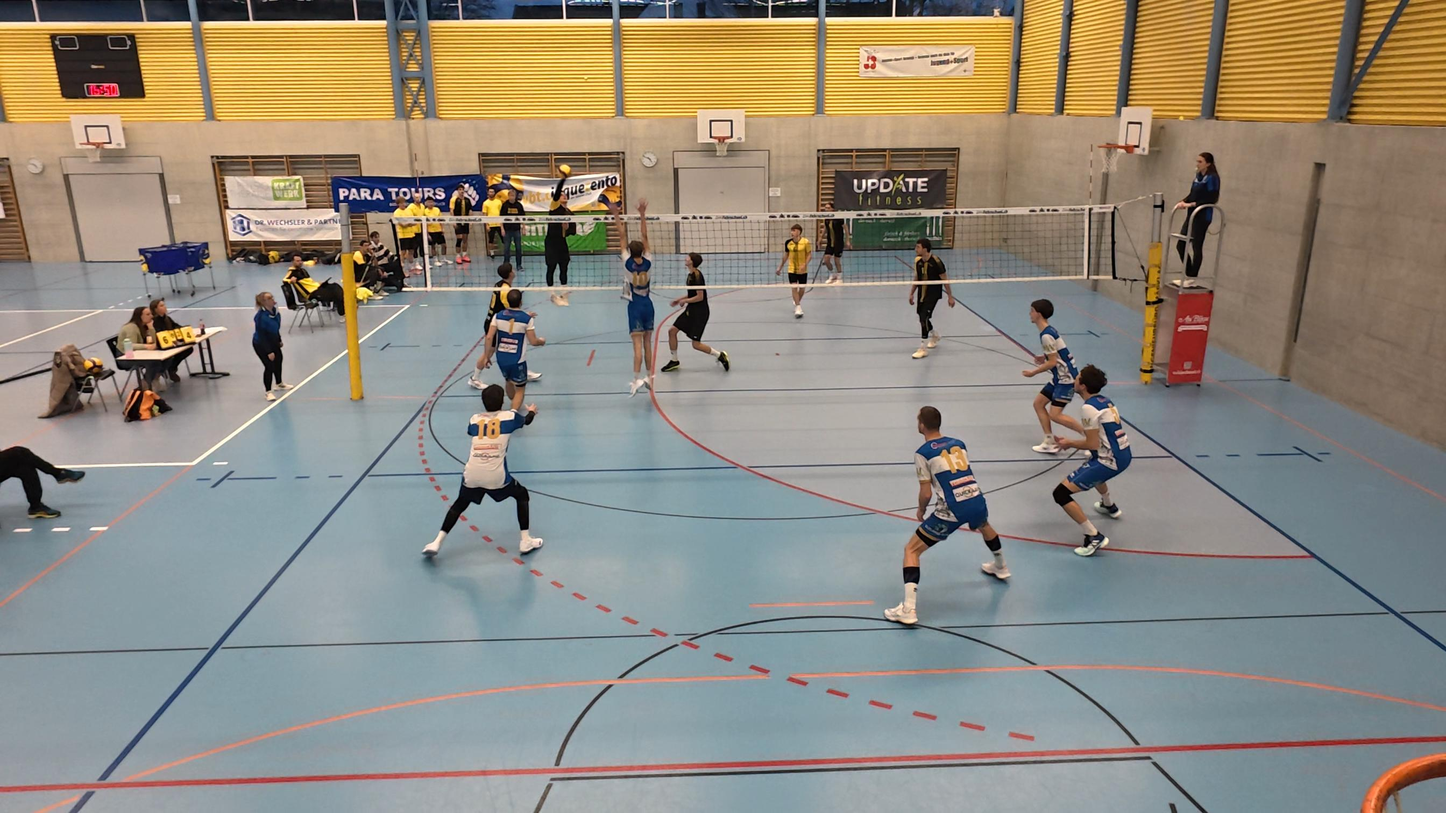Attack: (534, 176, 580, 309)
Block: (602, 195, 659, 404)
Dig: (421, 393, 542, 561)
Player: (888, 407, 1009, 624), (1050, 367, 1131, 554), (1020, 298, 1090, 453), (477, 298, 540, 427), (662, 254, 729, 373), (481, 265, 527, 373), (908, 244, 947, 360), (817, 199, 853, 291), (781, 220, 810, 319)
ball: (555, 161, 574, 181)
